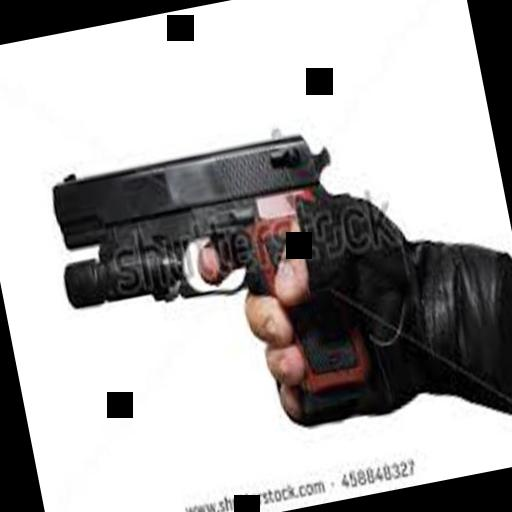Handgun: (36, 102, 395, 474)
